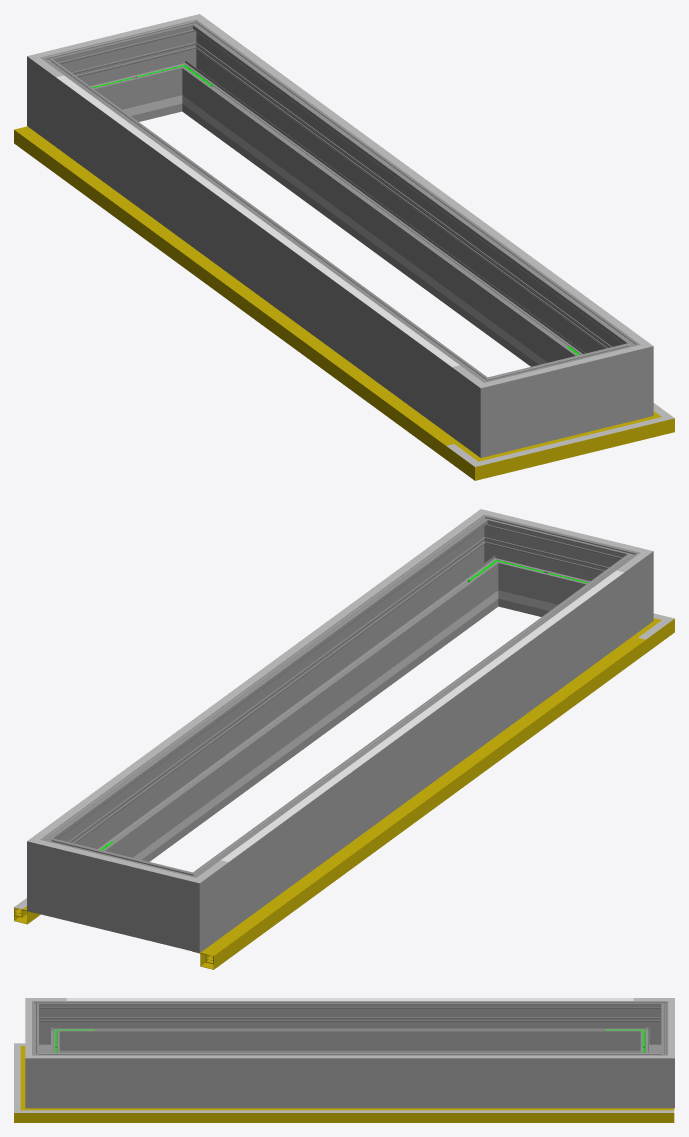
The picture shows the model from 3 angles, top to bottom: view 1: azimuth 30°, elevation 25°; view 2: azimuth 150°, elevation 25°; view 3: azimuth 270°, elevation 25°; orthographic projection. The views are drawn at different scales.
Visible parts, largest first — view 1: 3DGeom-297, 3DGeom-268, 3DGeom-6, 3DGeom-270, 3DGeom-298, 3DGeom-276, 3DGeom-290, 3DGeom-25, 3DGeom-284, 3DGeom-313, 3DGeom-303, 3DGeom-237 (+5 smaller); view 2: 3DGeom-297, 3DGeom-268, 3DGeom-6, 3DGeom-278, 3DGeom-276, 3DGeom-298, 3DGeom-284, 3DGeom-25, 3DGeom-290, 3DGeom-303, 3DGeom-313, 3DGeom-237 (+2 smaller); view 3: 3DGeom-297, 3DGeom-268, 3DGeom-16, 3DGeom-284, 3DGeom-290, 3DGeom-303, 3DGeom-18, 3DGeom-313, 3DGeom-232, 3DGeom-278, 3DGeom-270, 3DGeom-13 (+9 smaller).
Boxes of the visible parts, left/top/right/bottom form: 3DGeom-297: left=187, top=36, right=622, bottom=366; 3DGeom-268: left=56, top=73, right=467, bottom=436; 3DGeom-6: left=14, top=126, right=459, bottom=459; 3DGeom-270: left=452, top=363, right=530, bottom=457; 3DGeom-298: left=521, top=351, right=603, bottom=445; 3DGeom-276: left=80, top=29, right=173, bottom=121; 3DGeom-290: left=594, top=326, right=653, bottom=427; 3DGeom-25: left=14, top=127, right=453, bottom=445; 3DGeom-284: left=150, top=14, right=224, bottom=114; 3DGeom-313: left=56, top=75, right=459, bottom=366; 3DGeom-303: left=221, top=35, right=623, bottom=326; 3DGeom-237: left=210, top=115, right=547, bottom=364; 3DGeom-297: left=56, top=532, right=493, bottom=861; 3DGeom-268: left=212, top=568, right=624, bottom=931; 3DGeom-6: left=192, top=636, right=645, bottom=969; 3DGeom-278: left=150, top=858, right=228, bottom=952; 3DGeom-276: left=77, top=846, right=158, bottom=940; 3DGeom-298: left=506, top=523, right=598, bottom=616; 3DGeom-284: left=27, top=820, right=85, bottom=922; 3DGeom-25: left=206, top=638, right=645, bottom=957; 3DGeom-290: left=453, top=509, right=527, bottom=609; 3DGeom-303: left=56, top=530, right=459, bottom=821; 3DGeom-313: left=221, top=570, right=623, bottom=861; 3DGeom-237: left=133, top=611, right=470, bottom=859; 3DGeom-297: left=66, top=1052, right=633, bottom=1108; 3DGeom-268: left=66, top=1001, right=633, bottom=1050; 3DGeom-16: left=55, top=1108, right=674, bottom=1122; 3DGeom-284: left=633, top=1041, right=674, bottom=1108; 3DGeom-290: left=25, top=1041, right=66, bottom=1108; 3DGeom-303: left=66, top=1055, right=633, bottom=1058; 3DGeom-18: left=55, top=1110, right=674, bottom=1112; 3DGeom-313: left=66, top=998, right=633, bottom=1000; 3DGeom-232: left=99, top=1050, right=600, bottom=1052; 3DGeom-278: left=633, top=1001, right=668, bottom=1052; 3DGeom-270: left=32, top=1001, right=66, bottom=1052; 3DGeom-13: left=14, top=1095, right=55, bottom=1122.
Bounding box in the file's own units: 0.6096 × 0.2434 × 2.44.
